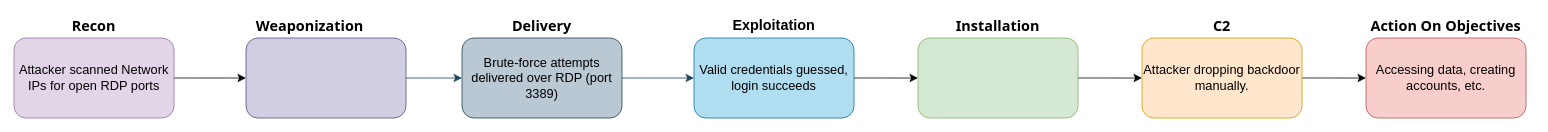
The diagram is 1548 pixels wide and 132 high, and some of its shapes have lost their labels. The shapes that lost their labels are listed below. From the top down, each one's box as (x1, y1, x2, y2) in pixels, then its label:
(245, 37, 406, 118): Prepping wordlists, scripts for brute force
(917, 37, 1078, 118): Attacker successfully connecting to target using RDP
